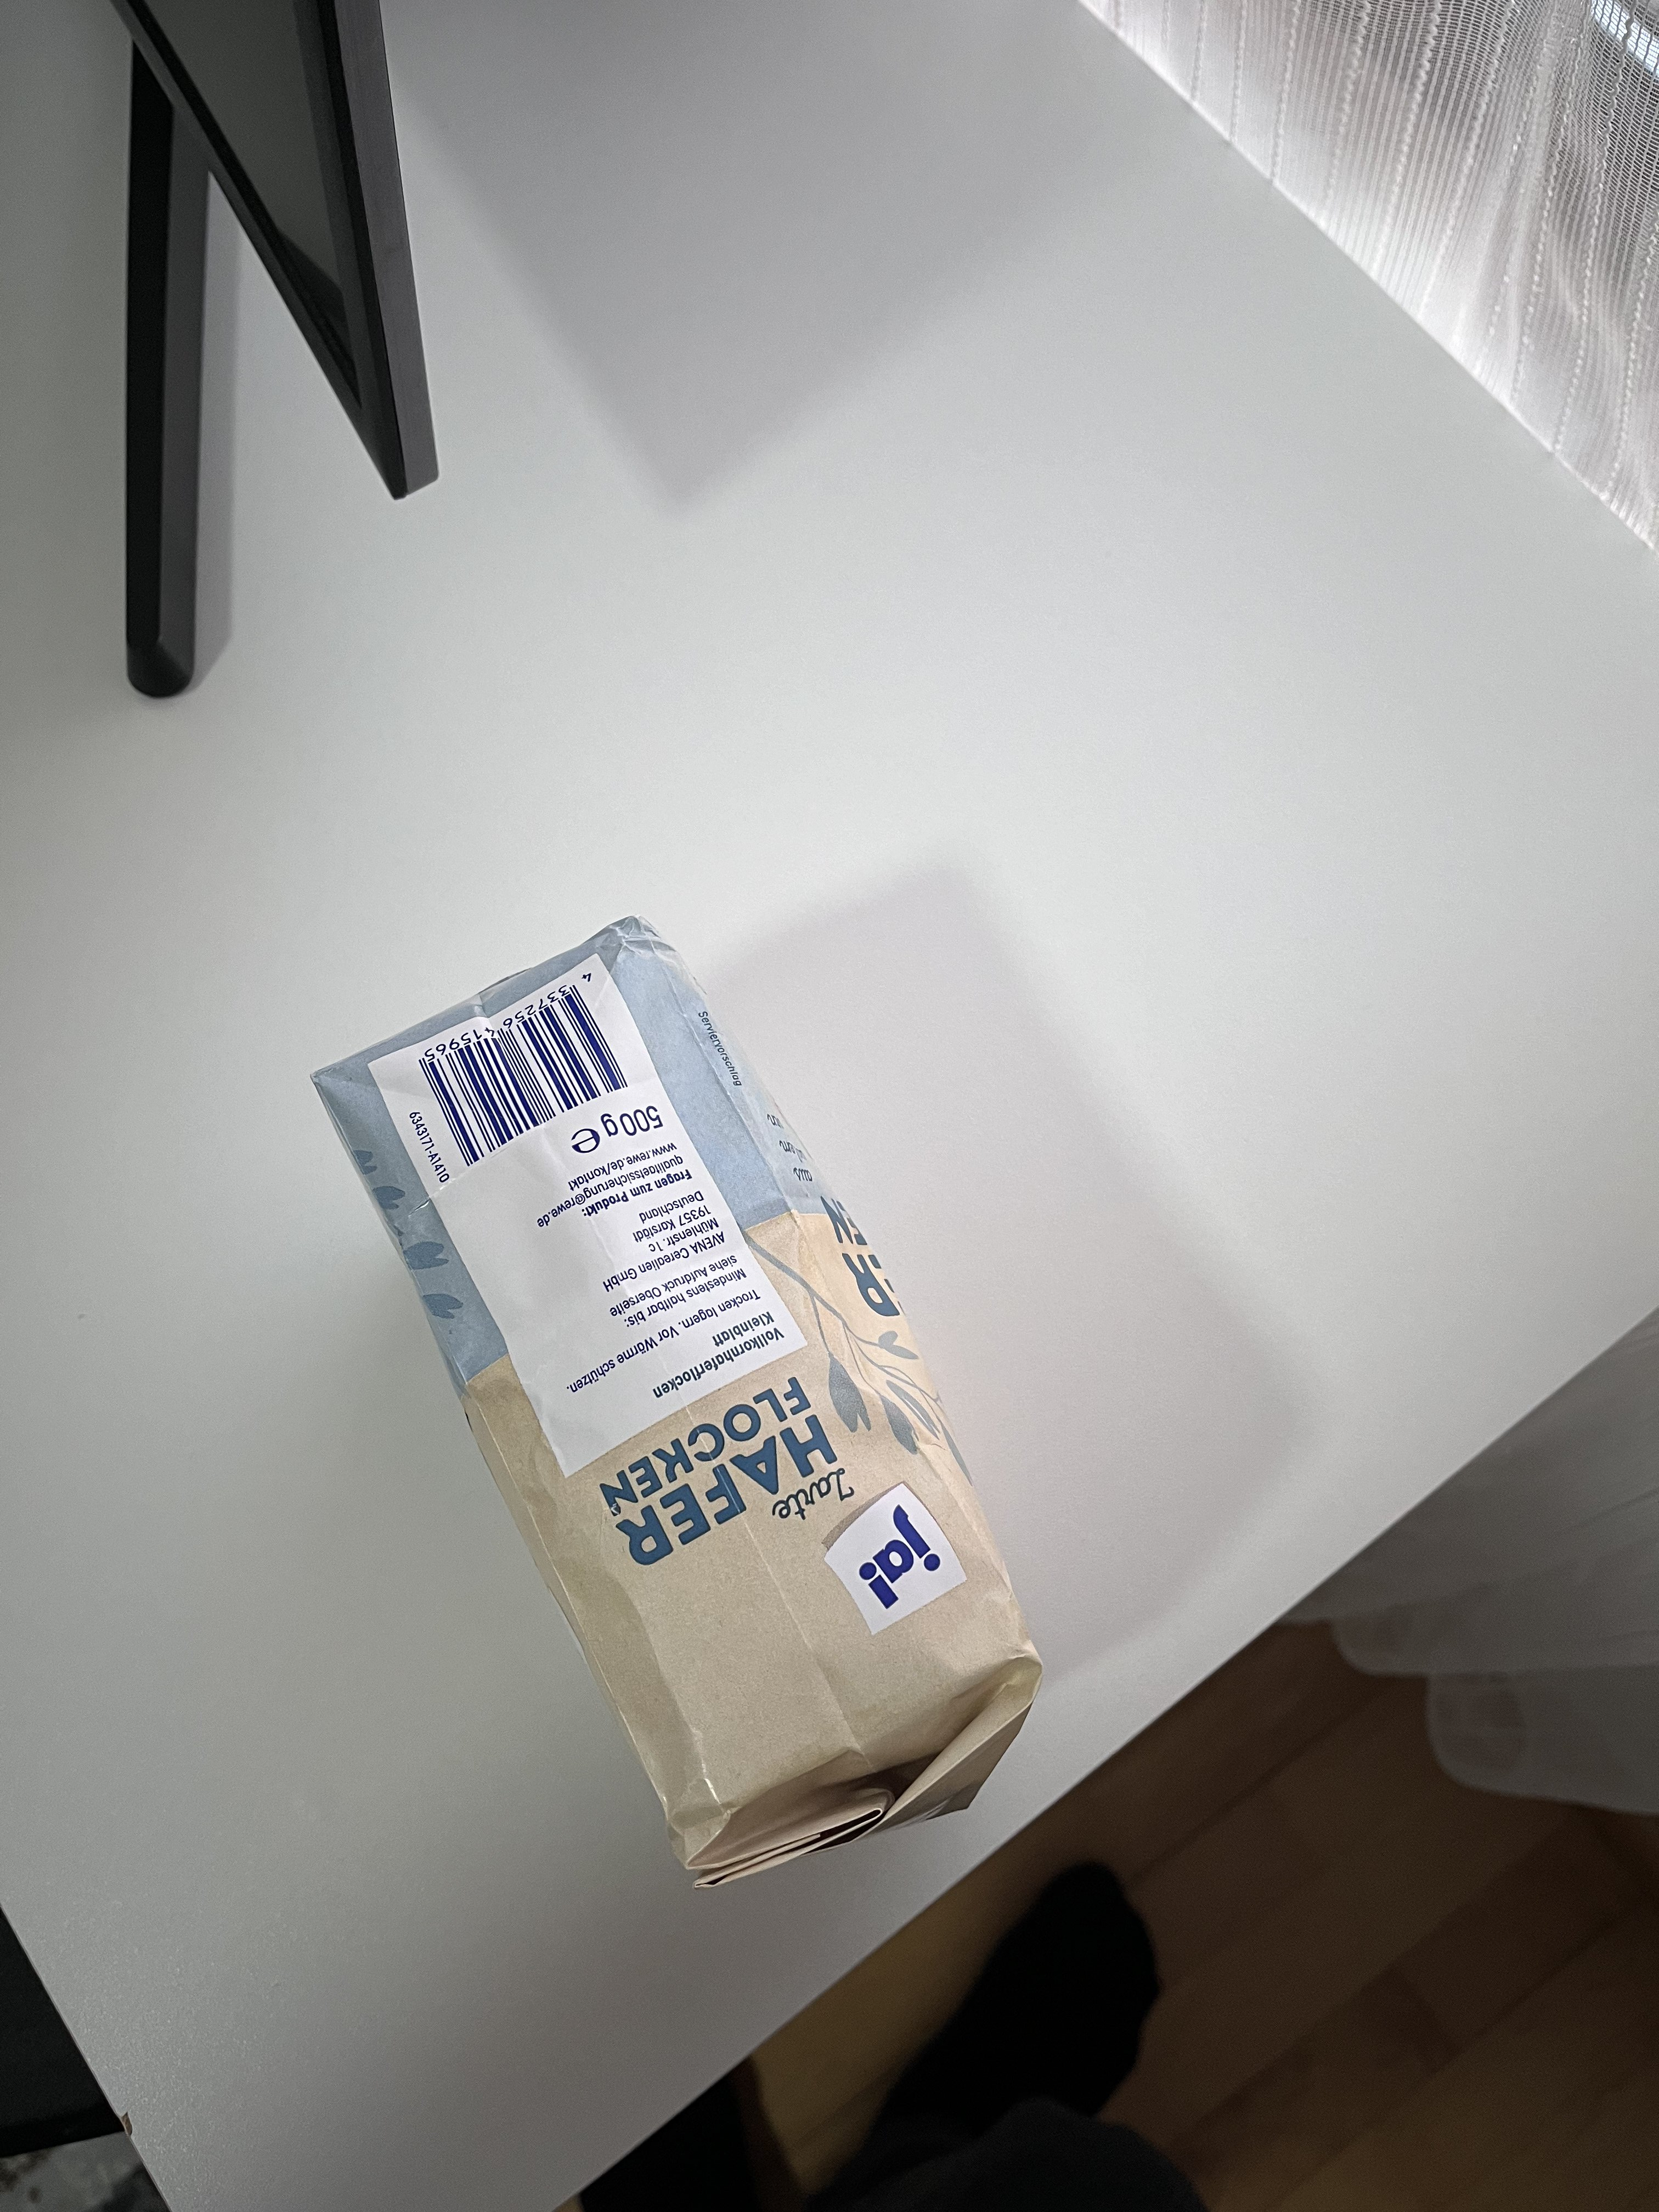haferflocken_ja: (307, 916, 1047, 1893)
